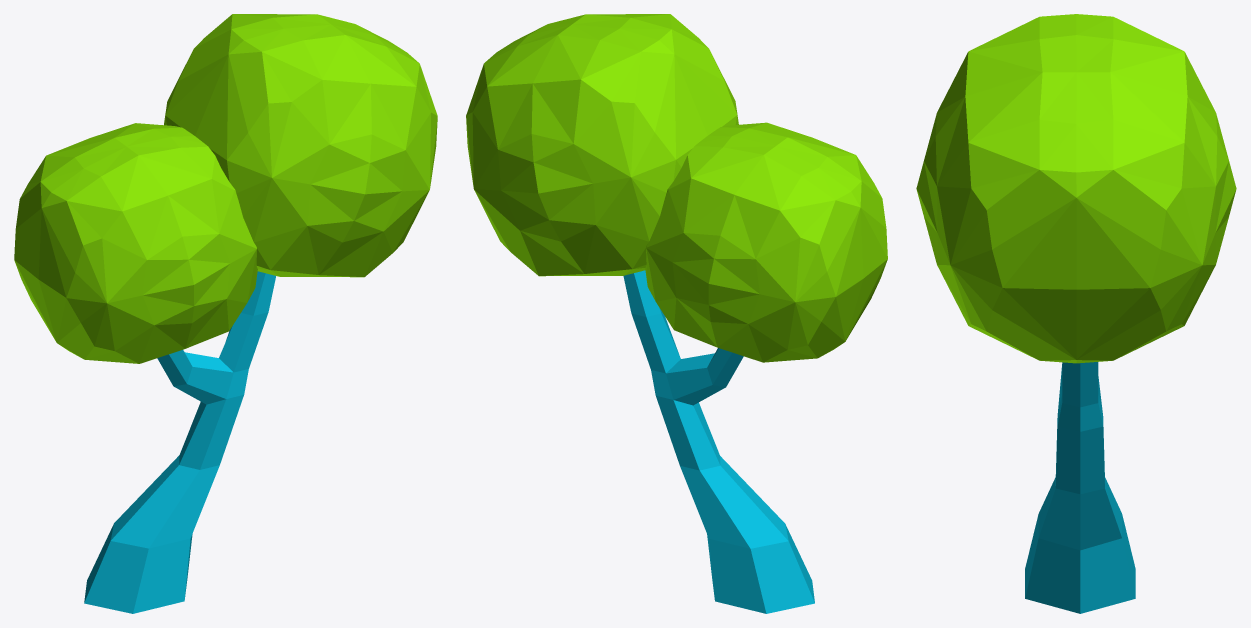
Rendered from tree.fbx.
The picture shows the model from 3 angles, left to right: view 1: azimuth 30°, elevation 25°; view 2: azimuth 150°, elevation 25°; view 3: azimuth 270°, elevation 25°; orthographic projection. The views are drawn at different scales.
Parts seen in each view (by area): view 1: tree, tree1, tree_stump; view 2: tree, tree1, tree_stump; view 3: tree, tree_stump.
Part boxes in pixels (<box>): tree: <box>164,14,437,277</box>; tree1: <box>14,123,257,363</box>; tree_stump: <box>84,271,275,613</box>; tree: <box>466,14,738,276</box>; tree1: <box>645,122,887,362</box>; tree_stump: <box>623,270,814,613</box>; tree: <box>916,14,1236,363</box>; tree_stump: <box>1025,362,1135,613</box>.
Bounding box in the file's own units: 436 × 584 × 267.
